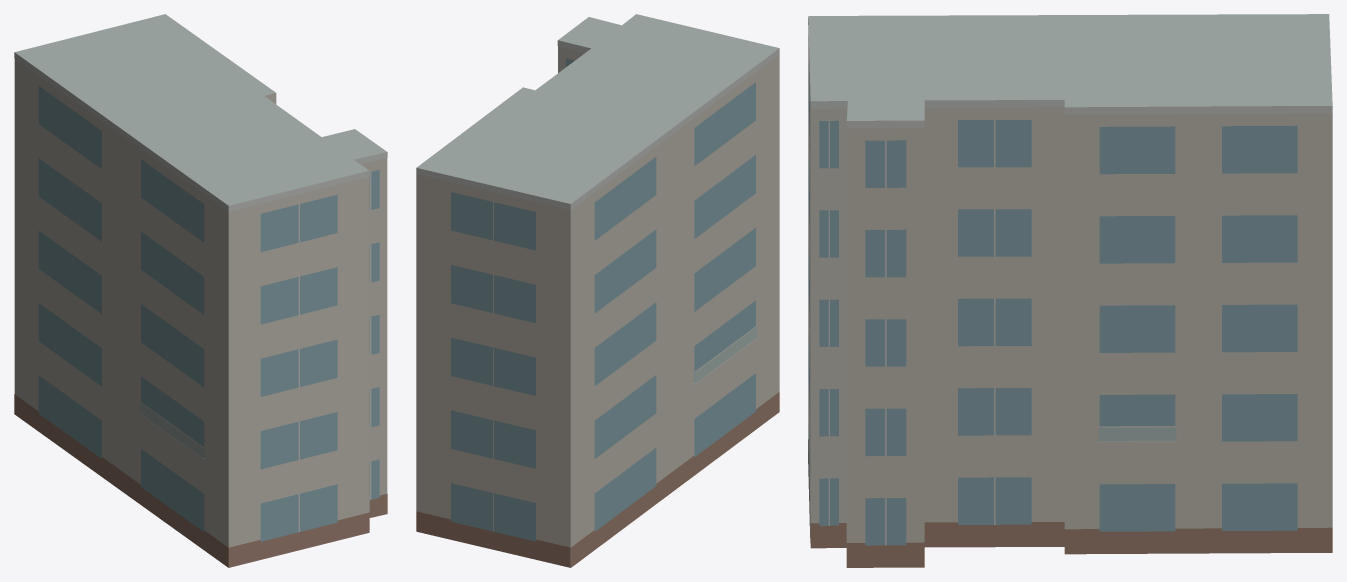
File: survey-upis-33011157.glb
3 views of the same model, side by side, from view 1: azimuth 30°, elevation 25°; view 2: azimuth 150°, elevation 25°; view 3: azimuth 270°, elevation 25° (orthographic). The views are drawn at different scales.
Visible parts, largest first — view 1: survey-upis-33011157.tmp; view 2: survey-upis-33011157.tmp; view 3: survey-upis-33011157.tmp.
Part boxes in pixels (x1,y1,x2,y2): survey-upis-33011157.tmp: (14,14,387,567); survey-upis-33011157.tmp: (416,14,779,567); survey-upis-33011157.tmp: (808,14,1332,567).
Size of the model in its own units: 7.48 by 14.55 by 15.48.
